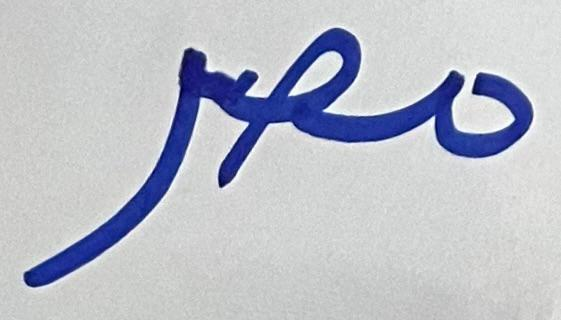character: (5, 21, 209, 289), (214, 27, 371, 185), (383, 40, 539, 176)
